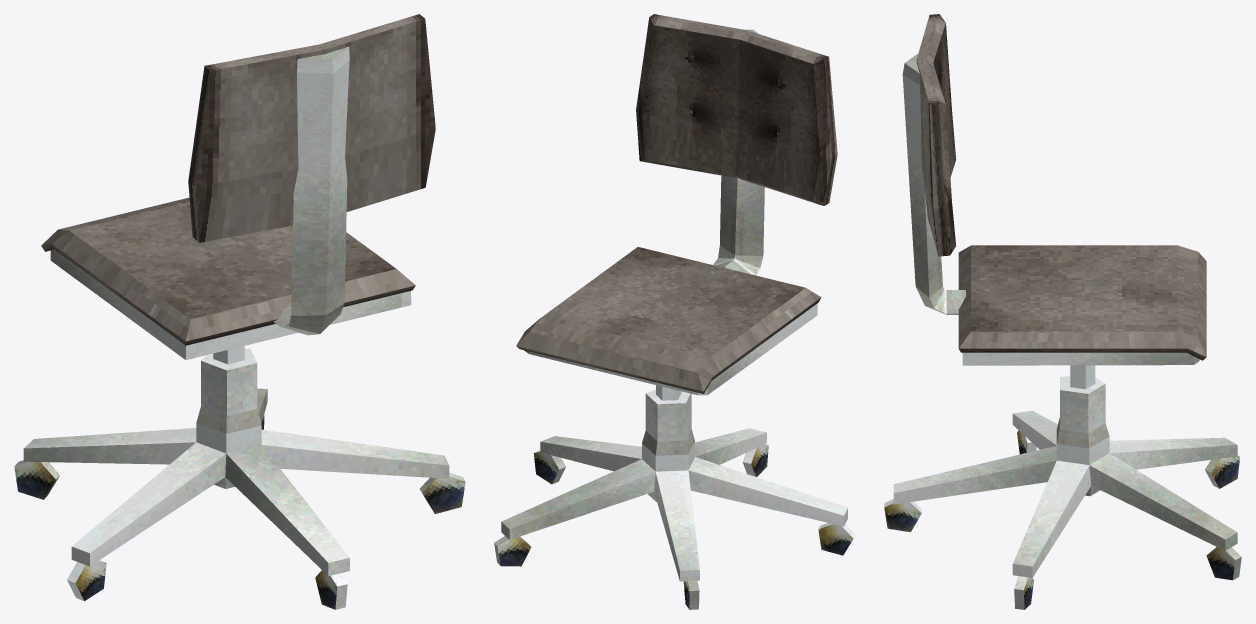
Rendered from office_chair_grey_alt.glb.
The picture shows the model from 3 angles, left to right: view 1: azimuth 30°, elevation 25°; view 2: azimuth 150°, elevation 25°; view 3: azimuth 270°, elevation 25°; orthographic projection. The views are drawn at different scales.
Visible parts, largest first — view 1: office_chair_grey_alt; view 2: office_chair_grey_alt; view 3: office_chair_grey_alt.
Boxes of the visible parts, box(x1,y1,x2,y2) form: office_chair_grey_alt: box(14, 14, 465, 609); office_chair_grey_alt: box(494, 14, 855, 609); office_chair_grey_alt: box(884, 14, 1241, 609).
Bounding box in the file's own units: 0.8196 × 1.1 × 0.7513.
1 material, 1 textured.
